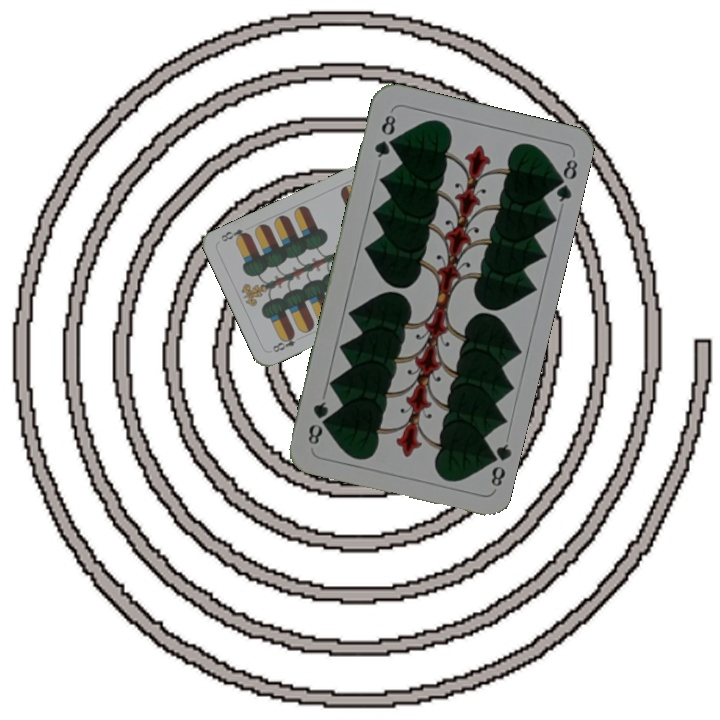E8: (267, 329, 298, 355)
G8: (482, 439, 514, 489), (370, 108, 398, 161)
